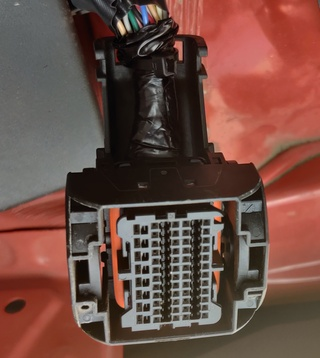connector: (65, 167, 270, 346)
